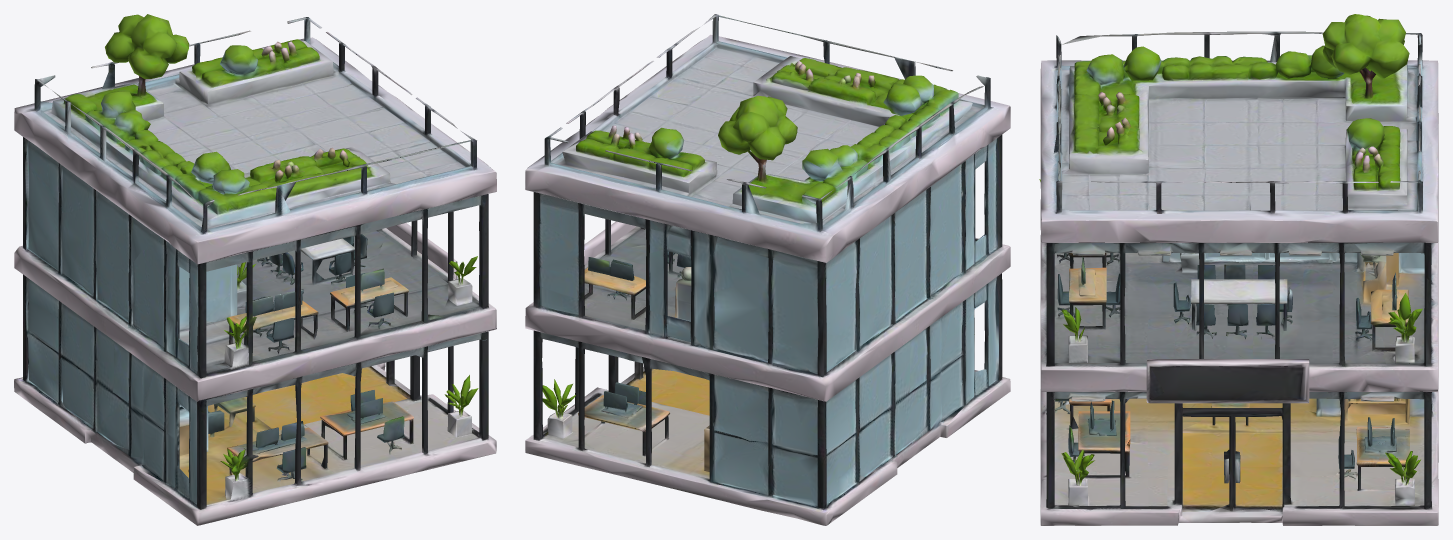
The model's file is escritorio-vidro.glb.
The picture shows the model from 3 angles, left to right: view 1: azimuth 30°, elevation 25°; view 2: azimuth 150°, elevation 25°; view 3: azimuth 270°, elevation 25°; orthographic projection. The views are drawn at different scales.
Visible parts, largest first — view 1: tripo_node_8aa71644-dbd5-4f72-95f4-8c473b07e055; view 2: tripo_node_8aa71644-dbd5-4f72-95f4-8c473b07e055; view 3: tripo_node_8aa71644-dbd5-4f72-95f4-8c473b07e055.
Part boxes in pixels (left/top/right/bottom): tripo_node_8aa71644-dbd5-4f72-95f4-8c473b07e055: left=14, top=14, right=496, bottom=525; tripo_node_8aa71644-dbd5-4f72-95f4-8c473b07e055: left=525, top=14, right=1010, bottom=525; tripo_node_8aa71644-dbd5-4f72-95f4-8c473b07e055: left=1039, top=14, right=1438, bottom=525.
Size of the model in its own units: 0.8629 by 1 by 0.8867.
1 material, 1 textured.
